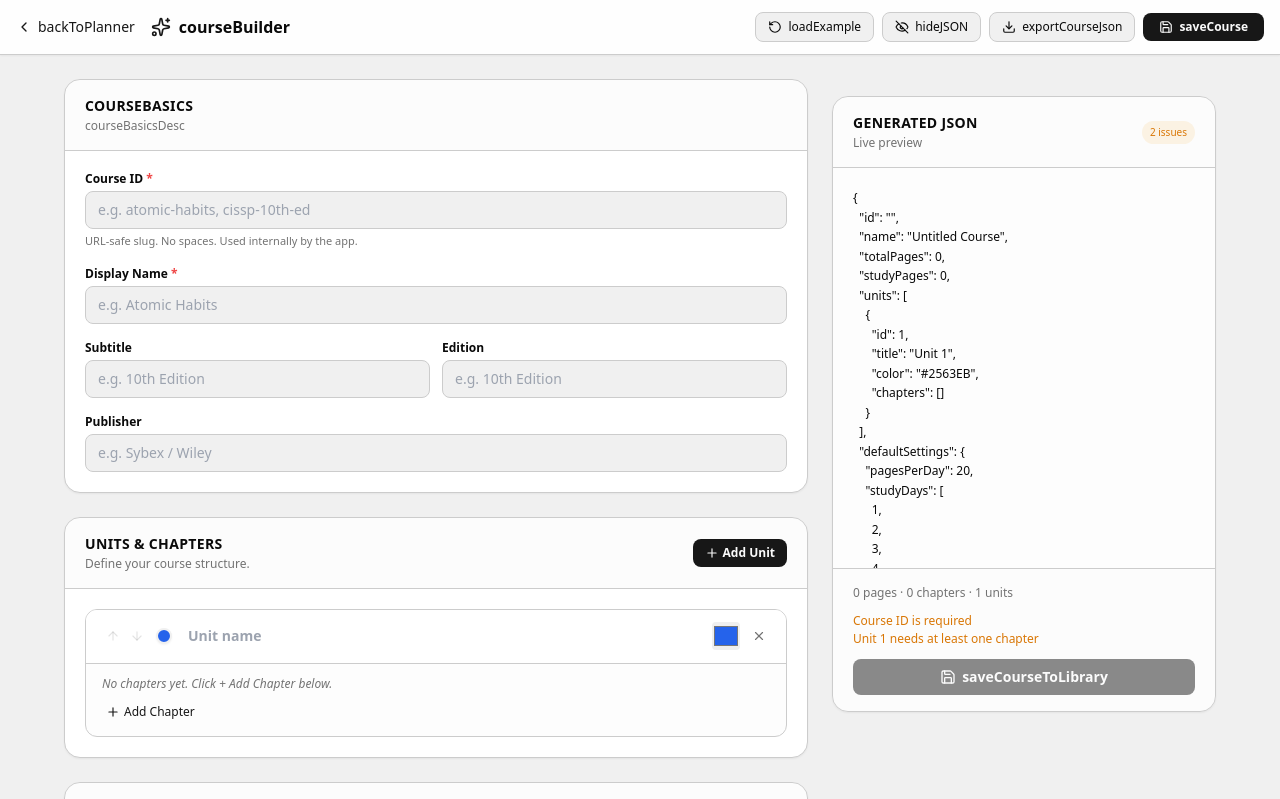
Test: CourseBuilder › adds a chapter when + Add Chapter is clicked
Click the button "Add Chapter". click: x=150, y=712
box: [102,700,199,724]
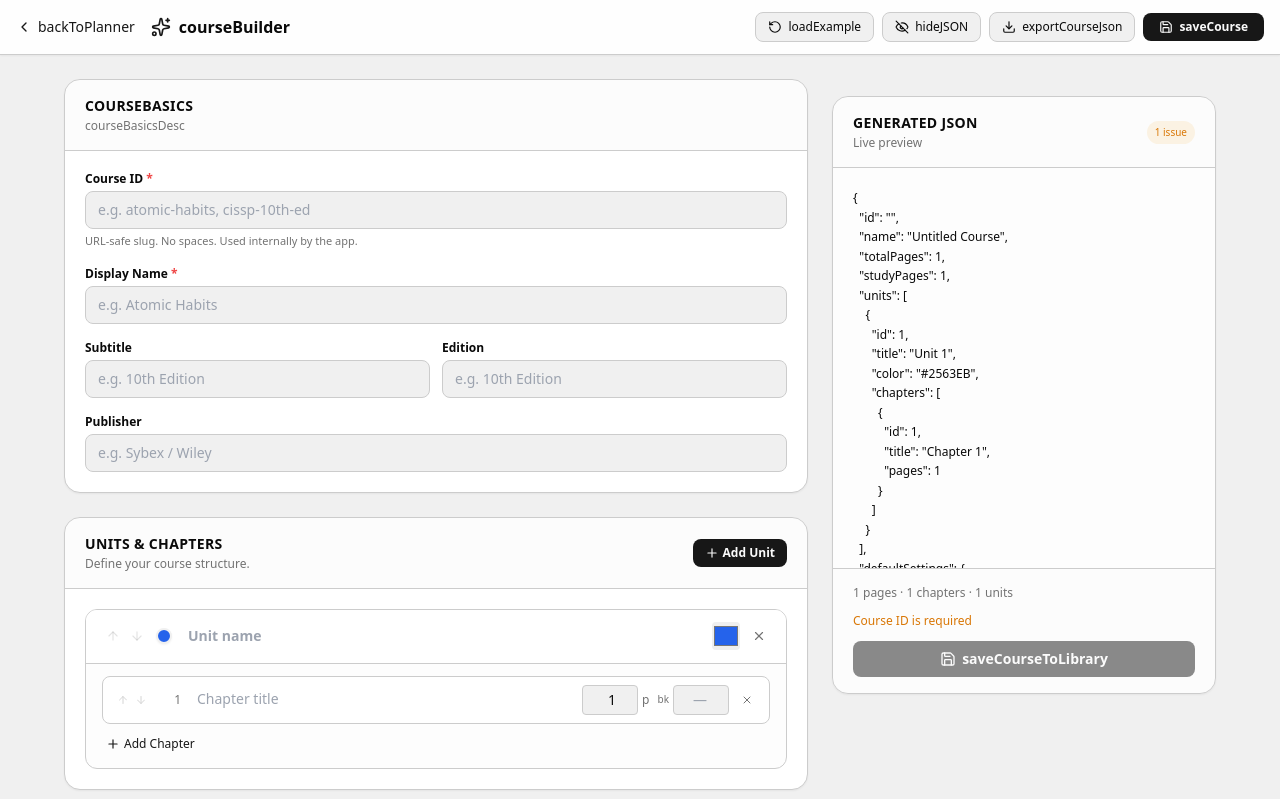
Check: the text "No chapters yet" is gone
Check: the field with placeholder "Chapter title" is shown, box [189,685,574,714]
